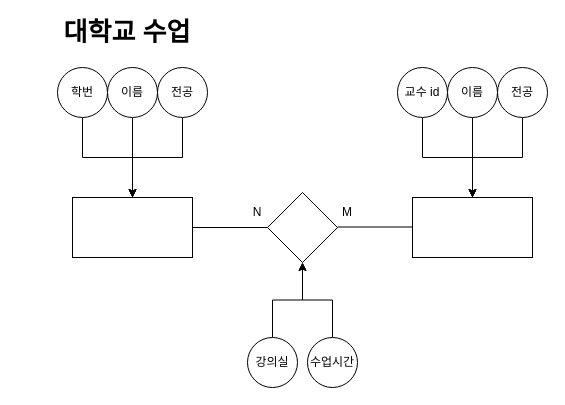
Some shapes in this 565 by 405 pixel diagram are drawn without their labels. The shapes that lost their labels are listed below. From the top down, each one's centre as x and y in pixels, then its label:
At point 132,227: "학생".
At point 302,227: "수업".
At point 472,227: "교수님".
